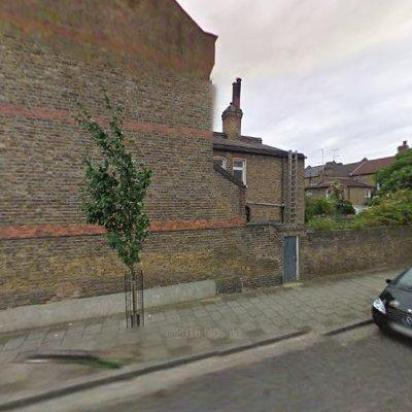stationary-car-onstreet: (370, 262, 412, 348)
